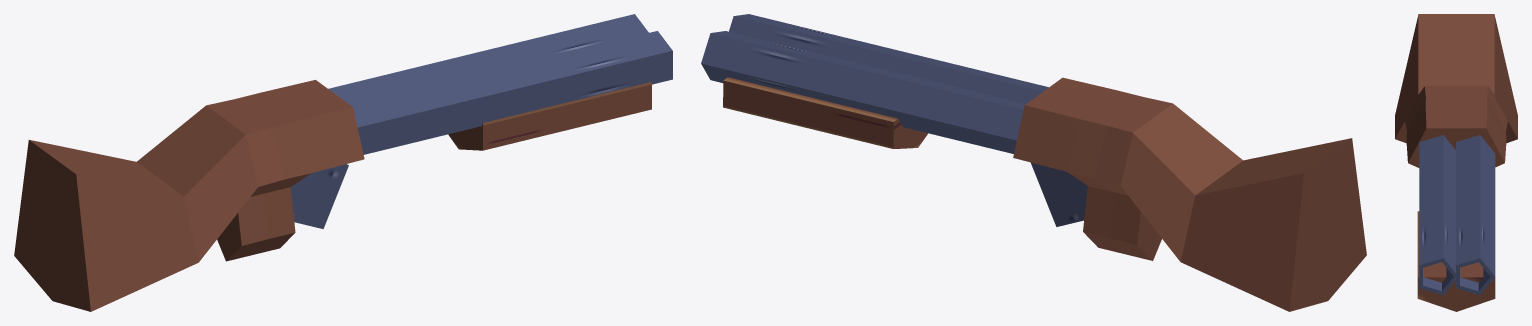
Rendered from Shotgun.fbx.
3 views of the same model, side by side, from view 1: azimuth 30°, elevation 25°; view 2: azimuth 150°, elevation 25°; view 3: azimuth 270°, elevation 25° (orthographic). The views are drawn at different scales.
Visible parts, largest first — view 1: Shotgun; view 2: Shotgun; view 3: Shotgun.
Part boxes in pixels (<box>): Shotgun: <box>14,14,672,311</box>; Shotgun: <box>701,14,1366,311</box>; Shotgun: <box>1395,14,1517,311</box>.
Size of the model in its own units: 2551 by 600 by 568.
